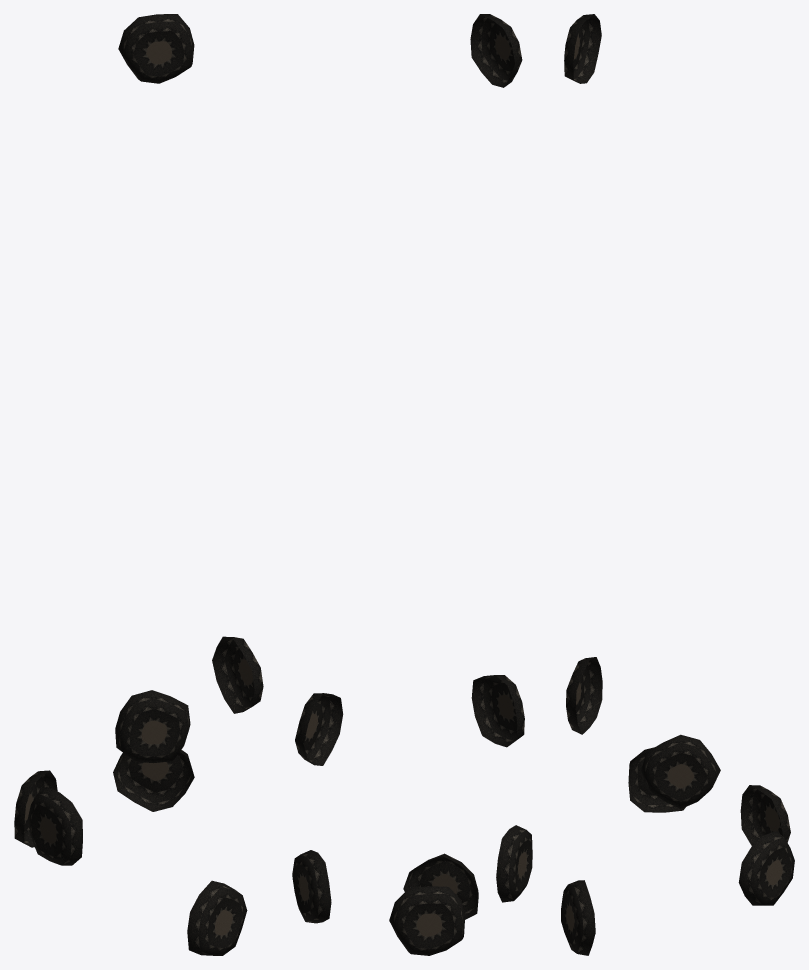
File: Sitka_Young_02_LowPruned_Healed_LOD2.fbx
3 views of the same model, side by side, from view 1: azimuth 30°, elevation 25°; view 2: azimuth 150°, elevation 25°; view 3: azimuth 270°, elevation 25° (orthographic). The views are drawn at different scales.
Parts seen in each view (by area): view 1: Sitka_Young_02_LowPruned_Healed_LOD2_Scars; view 2: Sitka_Young_02_LowPruned_Healed_LOD2_Scars; view 3: Sitka_Young_02_LowPruned_Healed_LOD2_Scars.
Boxes of the visible parts, x1,y1,x2,y2 form: Sitka_Young_02_LowPruned_Healed_LOD2_Scars: (14,14,263,955); Sitka_Young_02_LowPruned_Healed_LOD2_Scars: (292,14,532,955); Sitka_Young_02_LowPruned_Healed_LOD2_Scars: (561,14,794,955).
Size of what is drawn, in the model's own units: 17.35 by 73.52 by 17.18.
Materials: 2 (2 with a texture image).
